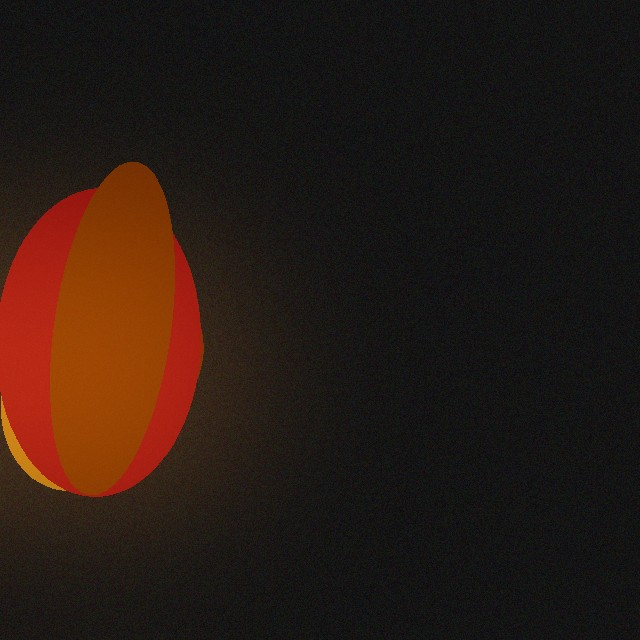fire: (10, 268, 180, 478)
